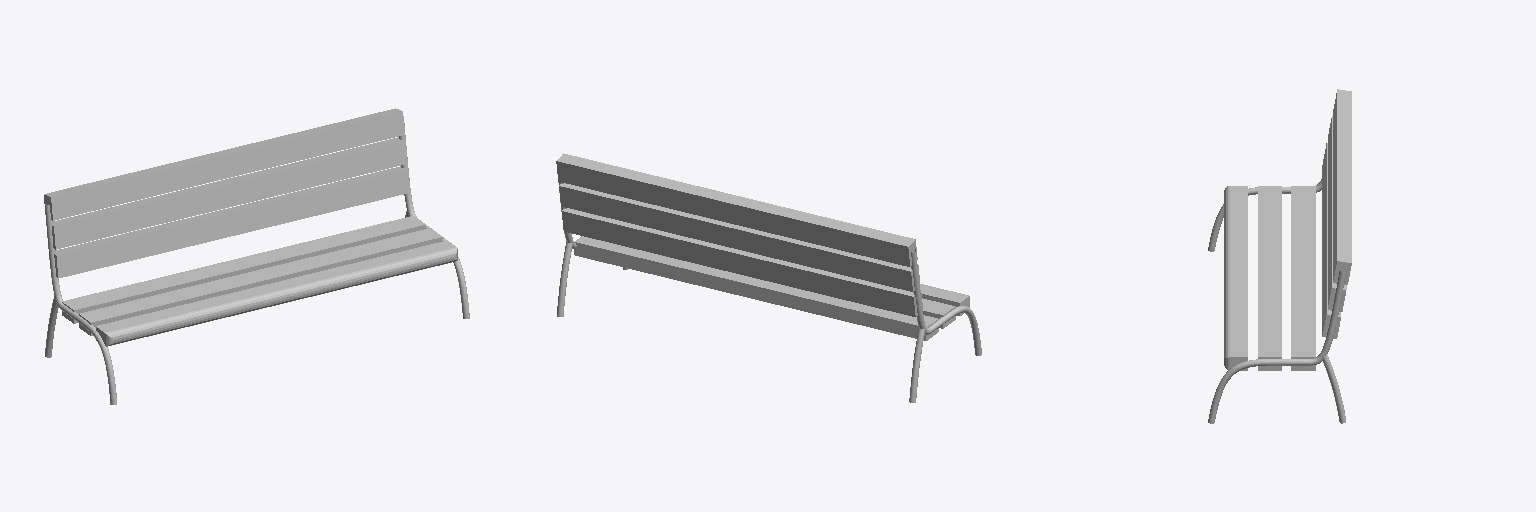
Rendered from Bench.obj.
3 renders of one model, left to right at view 1: azimuth 30°, elevation 25°; view 2: azimuth 150°, elevation 25°; view 3: azimuth 270°, elevation 25°, orthographic.
Visible parts, largest first — view 1: Bench_Cube.014; view 2: Bench_Cube.014; view 3: Bench_Cube.014.
Part boxes in pixels (x1,y1,x2,y2): Bench_Cube.014: (44,108,469,404); Bench_Cube.014: (556,153,981,402); Bench_Cube.014: (1208,89,1351,423).
Size of the model in its own units: 7.73 by 3.33 by 2.69.